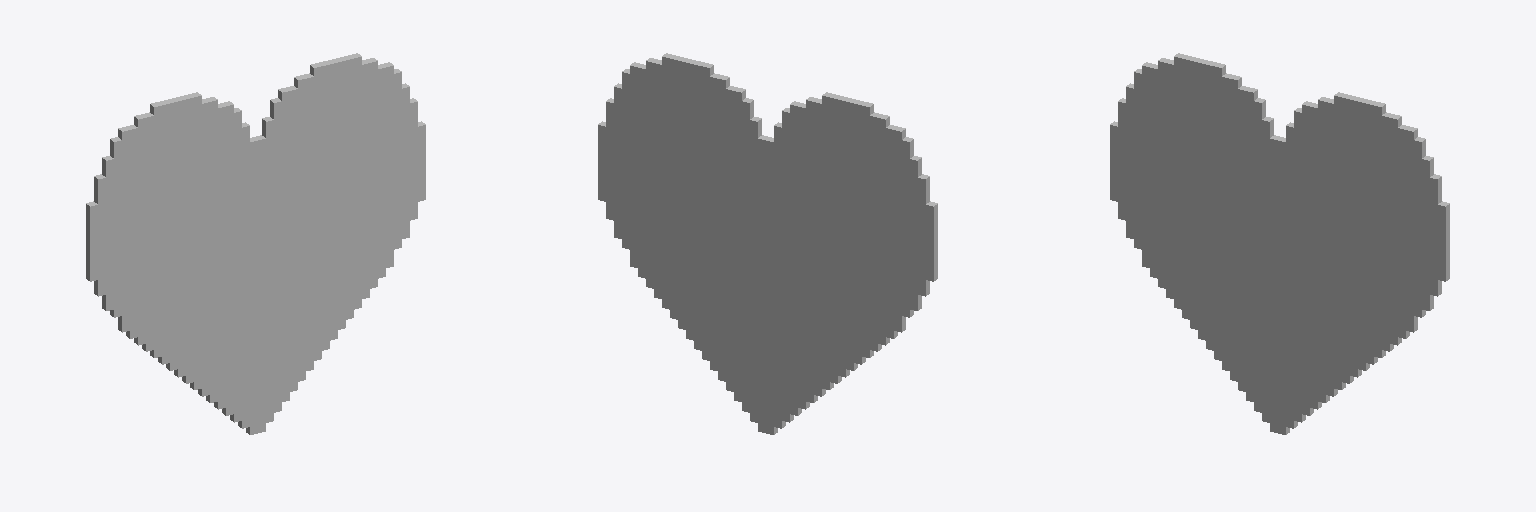
The model's file is heart.obj.
3 renders of one model, left to right at view 1: azimuth 30°, elevation 25°; view 2: azimuth 150°, elevation 25°; view 3: azimuth 330°, elevation 25°, orthographic.
Visible parts, largest first — view 1: object 1; view 2: object 1; view 3: object 1.
Boxes of the visible parts, x1,y1,x2,y2 form: object 1: [86, 53, 425, 434]; object 1: [598, 53, 937, 434]; object 1: [1110, 53, 1449, 434].
Size of the model in its own units: 4.2 by 4.2 by 0.1.